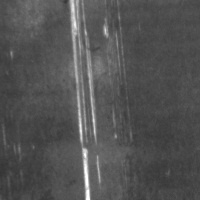scratches: (68, 1, 100, 200), (101, 7, 127, 61)
